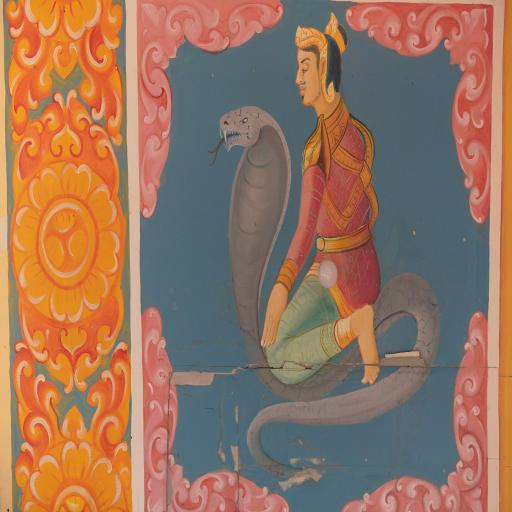hoa: (2, 91, 129, 389), (4, 329, 135, 512), (2, 0, 132, 150)
la: (348, 0, 497, 226), (137, 2, 290, 216), (139, 305, 290, 512), (345, 310, 487, 512)
ran: (214, 98, 438, 457)
than: (264, 13, 395, 395)
